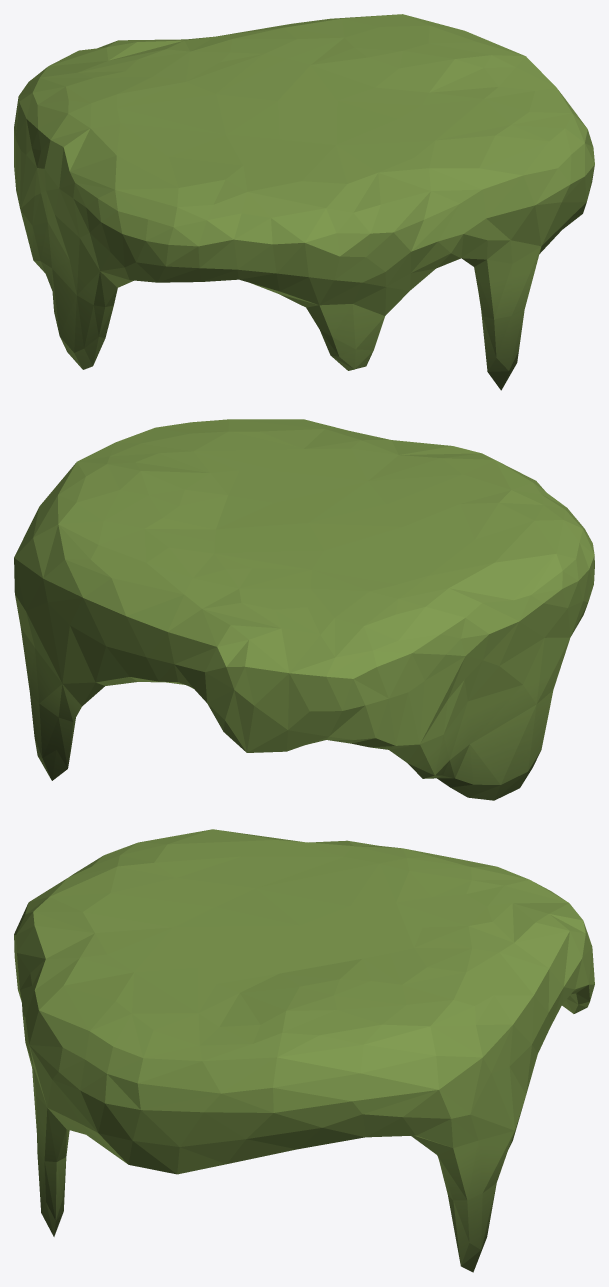
The model's file is Jungle_PlatformRock_Lrg_A_Grass.fbx.
The picture shows the model from 3 angles, top to bottom: view 1: azimuth 30°, elevation 25°; view 2: azimuth 150°, elevation 25°; view 3: azimuth 270°, elevation 25°; orthographic projection. The views are drawn at different scales.
Parts seen in each view (by area): view 1: Jungle_PlatformRock_Lrg_A_Grass; view 2: Jungle_PlatformRock_Lrg_A_Grass; view 3: Jungle_PlatformRock_Lrg_A_Grass.
Boxes of the visible parts, x1,y1,x2,y2 form: Jungle_PlatformRock_Lrg_A_Grass: (14, 14, 594, 390); Jungle_PlatformRock_Lrg_A_Grass: (14, 419, 594, 800); Jungle_PlatformRock_Lrg_A_Grass: (14, 829, 594, 1272).
Bounding box in the file's own units: 13.4 × 6.46 × 13.01.
